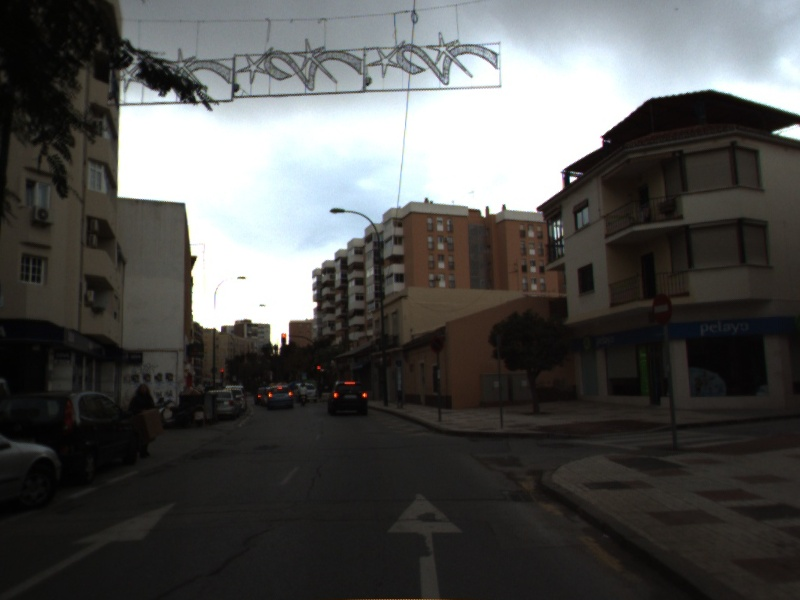STRAIGHT: (1, 496, 186, 600), (383, 489, 468, 600)
